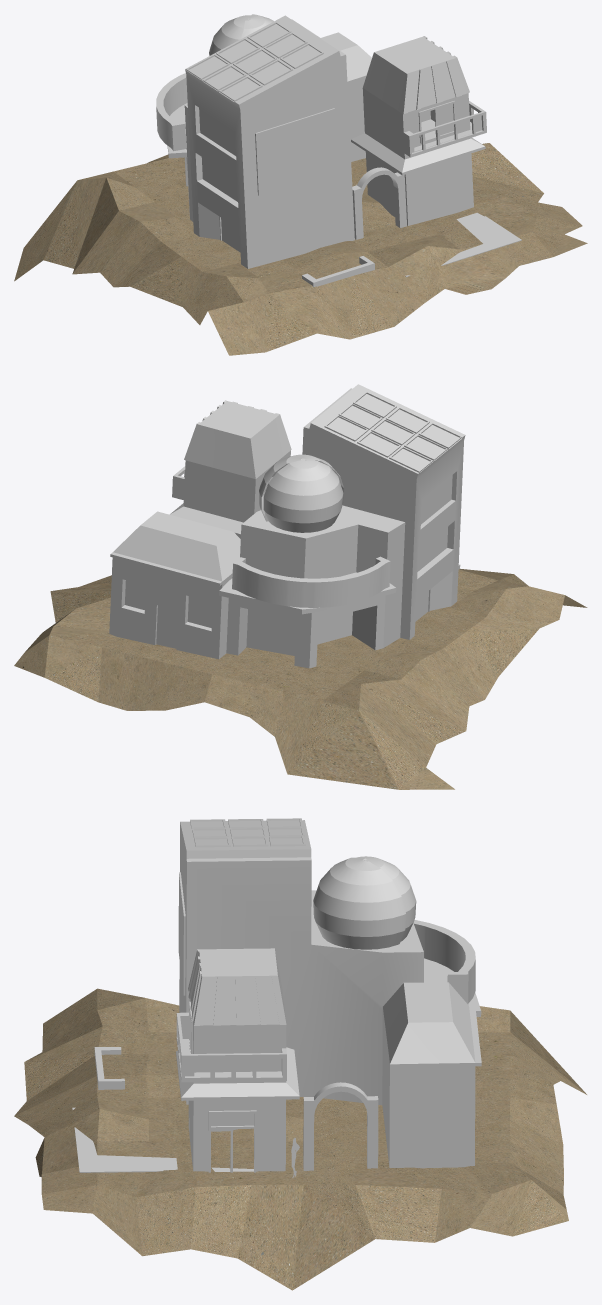
File: drugisland.glb
3 renders of one model, top to bottom at view 1: azimuth 30°, elevation 25°; view 2: azimuth 150°, elevation 25°; view 3: azimuth 270°, elevation 25°, orthographic. The views are drawn at different scales.
Parts seen in each view (by area): view 1: Grid, mesh36_mesh, mesh43_mesh, mesh35_mesh, mesh37_mesh, mesh16_mesh, mesh40_mesh, mesh25_mesh, mesh2_mesh, mesh12_mesh, mesh9_mesh, mesh1_mesh (+2 smaller); view 2: Grid, mesh36_mesh, mesh12_mesh, mesh16_mesh, mesh37_mesh, mesh9_mesh, mesh43_mesh, mesh25_mesh, mesh5_mesh, mesh40_mesh; view 3: Grid, mesh36_mesh, mesh12_mesh, mesh43_mesh, mesh35_mesh, mesh37_mesh, mesh9_mesh, mesh16_mesh, mesh40_mesh, mesh25_mesh, mesh2_mesh, mesh5_mesh (+4 smaller).
Part boxes in pixels (x1,y1,x2,y2): Grid: (14,143,587,355); mesh36_mesh: (167,14,354,268); mesh43_mesh: (362,88,486,159); mesh35_mesh: (365,152,473,225); mesh37_mesh: (363,36,469,114); mesh16_mesh: (156,73,187,151); mesh40_mesh: (351,133,484,172); mesh25_mesh: (374,36,455,73); mesh2_mesh: (405,212,521,277); mesh12_mesh: (347,75,366,161); mesh9_mesh: (340,45,371,81); mesh1_mesh: (301,256,374,287); Grid: (14,568,587,789); mesh36_mesh: (219,384,465,668); mesh12_mesh: (109,552,232,659); mesh16_mesh: (232,556,390,607); mesh37_mesh: (184,400,291,478); mesh9_mesh: (113,525,240,581); mesh43_mesh: (172,450,290,522); mesh25_mesh: (198,401,278,438); mesh5_mesh: (140,511,232,545); mesh40_mesh: (170,503,243,534); Grid: (14,988,586,1290); mesh36_mesh: (178,818,481,1105); mesh12_mesh: (382,1005,481,1168); mesh43_mesh: (176,998,286,1083); mesh35_mesh: (189,1099,285,1172); mesh37_mesh: (188,949,286,1025); mesh9_mesh: (383,982,475,1064); mesh16_mesh: (413,920,475,1004); mesh40_mesh: (176,1047,299,1097); mesh25_mesh: (199,948,277,976); mesh2_mesh: (72,1107,177,1172); mesh5_mesh: (403,982,452,1022).
Bounding box in the file's own units: 25.4 × 13.96 × 22.24.
Materials: 2 (1 with a texture image).
